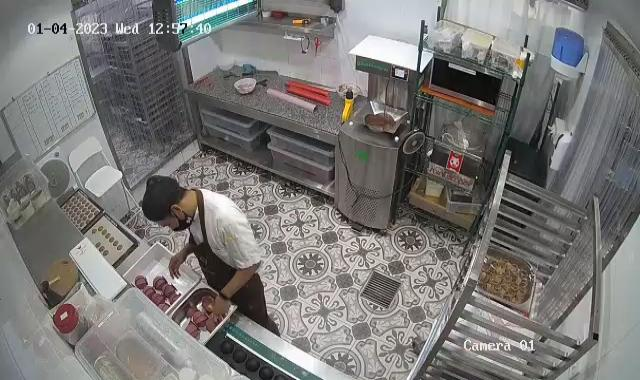no_hairnet: (142, 174, 185, 220)
